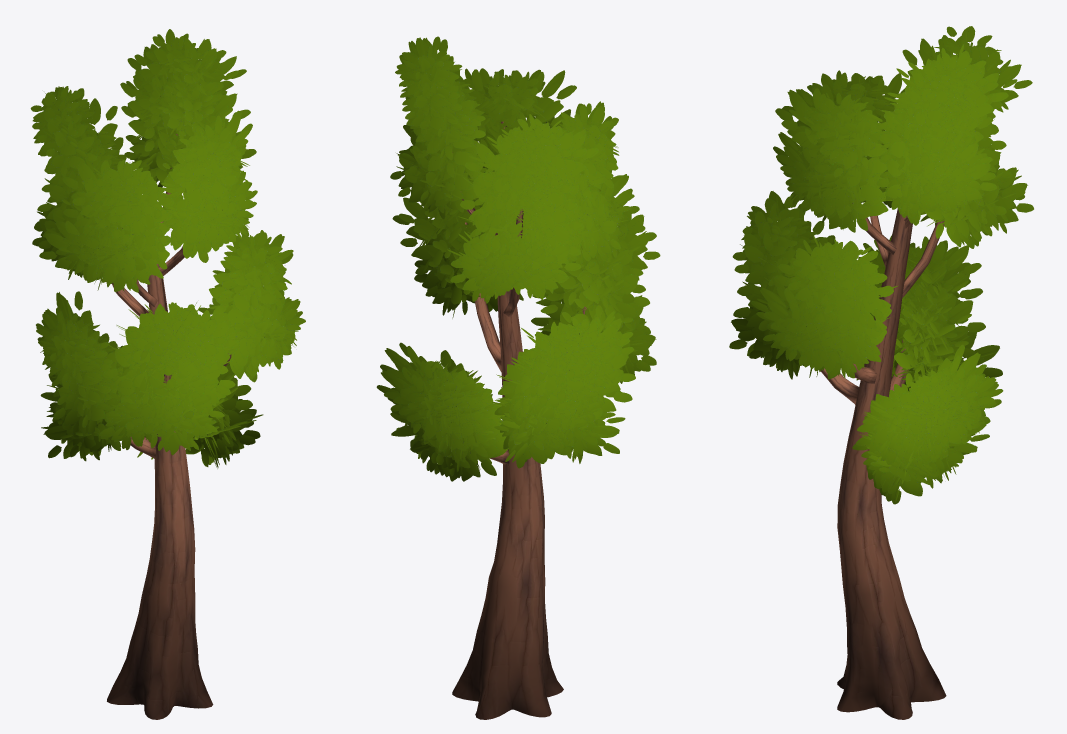
File: commontree_3.glb
The picture shows the model from 3 angles, left to right: view 1: azimuth 30°, elevation 25°; view 2: azimuth 150°, elevation 25°; view 3: azimuth 270°, elevation 25°; orthographic projection. The views are drawn at different scales.
Visible parts, largest first — view 1: CommonTree_3; view 2: CommonTree_3; view 3: CommonTree_3.
Part boxes in pixels (bbox=[...]): CommonTree_3: bbox=[30, 29, 305, 719]; CommonTree_3: bbox=[376, 36, 660, 719]; CommonTree_3: bbox=[729, 26, 1033, 719].
Bounding box in the file's own units: 4.06 × 9.43 × 4.24.
Materials: 2 (2 with a texture image).
